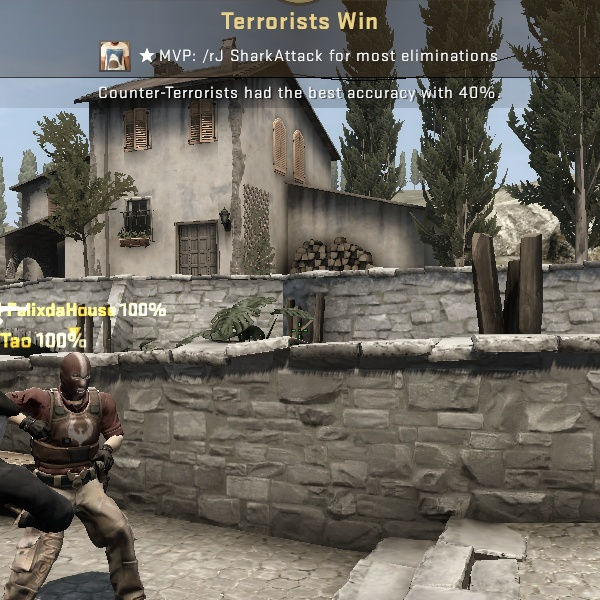t_body: (7, 343, 152, 599)
t_head: (47, 344, 103, 404)
